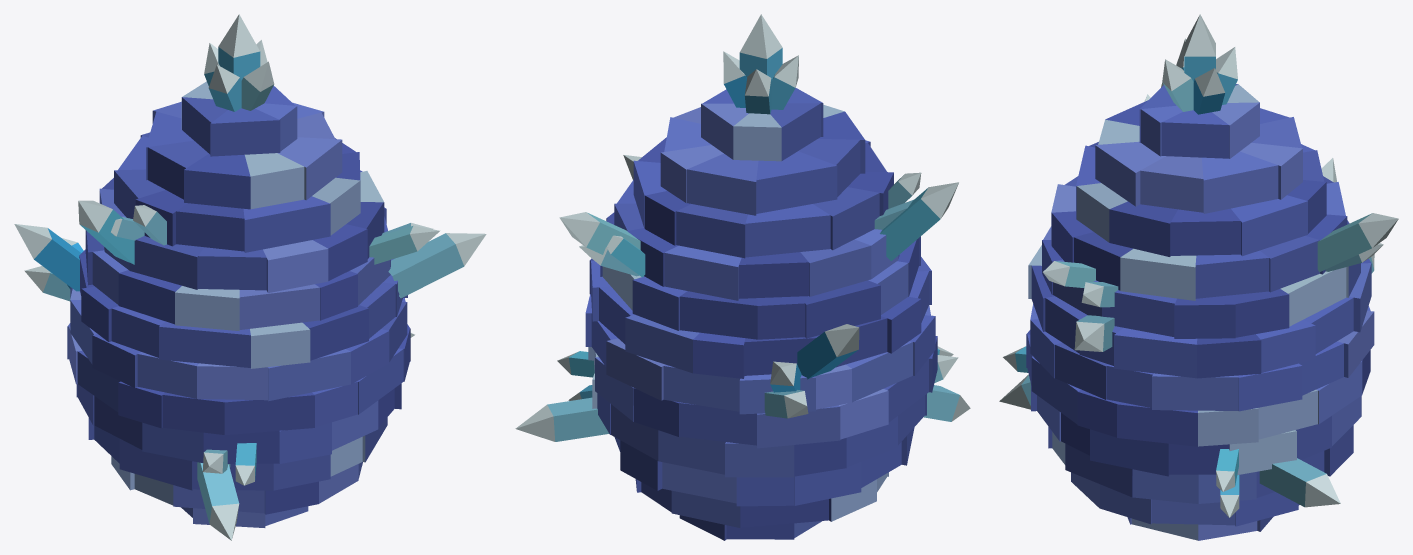
The model's file is crystal_egg.glb.
3 renders of one model, left to right at view 1: azimuth 30°, elevation 25°; view 2: azimuth 150°, elevation 25°; view 3: azimuth 270°, elevation 25°, orthographic. The views are drawn at different scales.
Parts seen in each view (by area): view 1: crystal_egg; view 2: crystal_egg; view 3: crystal_egg.
Part boxes in pixels (x1,y1,x2,y2): crystal_egg: (14,14,486,540); crystal_egg: (515,14,970,540); crystal_egg: (999,14,1398,540).
Size of the model in its own units: 1.08 by 1.34 by 0.9879.
